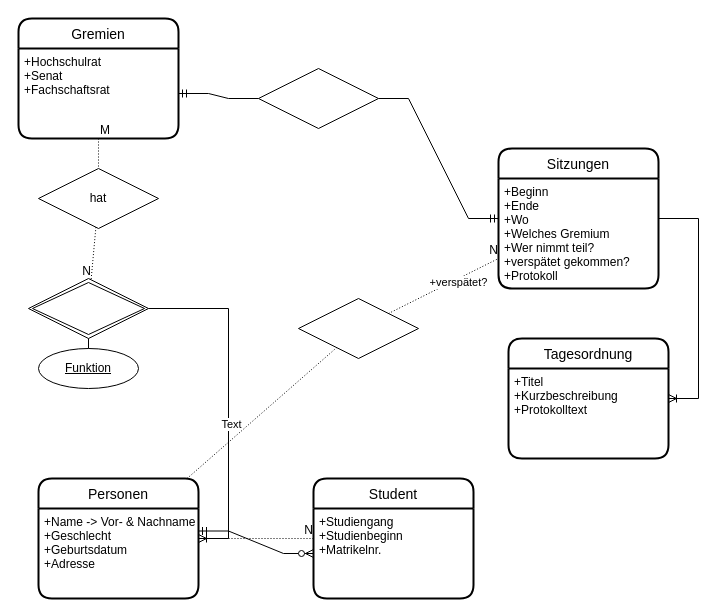
The diagram is 724 pixels wide and 616 high, and some of its shapes have lost their labels. Here are the shapes that lost their labels. From the top down, the centre of each, then its label:
At (318,98): "hat Sitzung".
At (88,308): "Mitglieder".
At (358,328): "nimmt teil".
